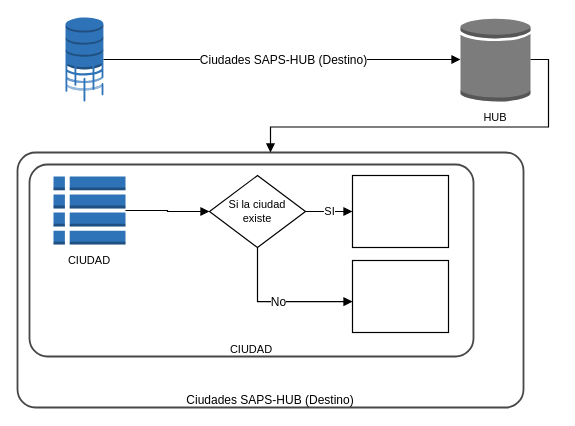
This 575x426 diagram has some shape labels left out. Each missing label, with the centre of its shape:
Actualiza: the point at 400,211
HUBDATOS migration workflow/job: the point at 84,59
Inserta: the point at 400,296
